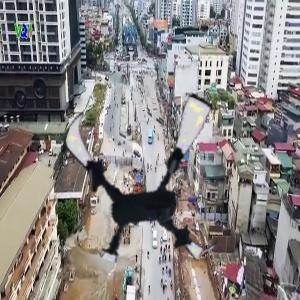drone: (55, 83, 241, 269)
